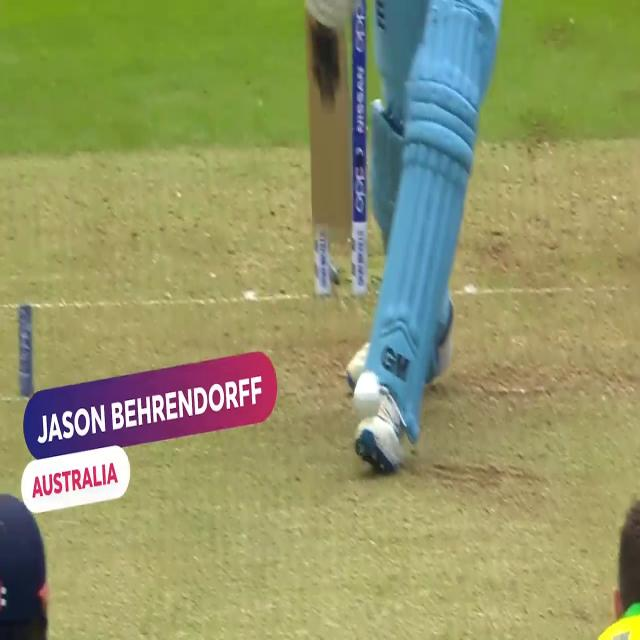ball: (349, 360, 383, 427)
